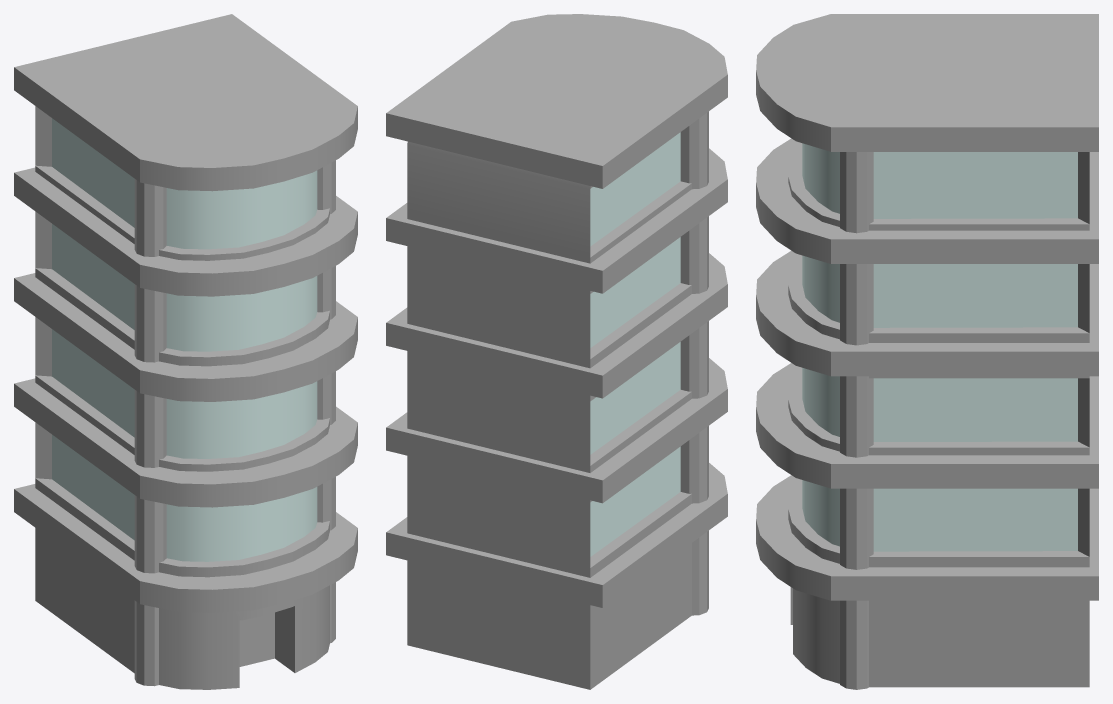
File: tesuto02.fbx
3 views of the same model, side by side, from view 1: azimuth 30°, elevation 25°; view 2: azimuth 150°, elevation 25°; view 3: azimuth 270°, elevation 25° (orthographic). The views are drawn at different scales.
Parts seen in each view (by area): view 1: pCube2; view 2: pCube2; view 3: pCube2.
Boxes of the visible parts, <box> form: pCube2: <box>14,14,357,689</box>; pCube2: <box>386,14,727,689</box>; pCube2: <box>756,14,1098,689</box>.
Bounding box in the file's own units: 1063 × 2523 × 1360.
